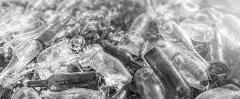glass: (145, 47, 194, 99), (28, 73, 98, 91), (133, 66, 166, 99)
